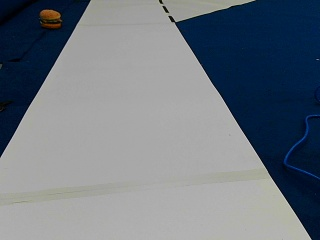burger: (38, 7, 62, 28)
